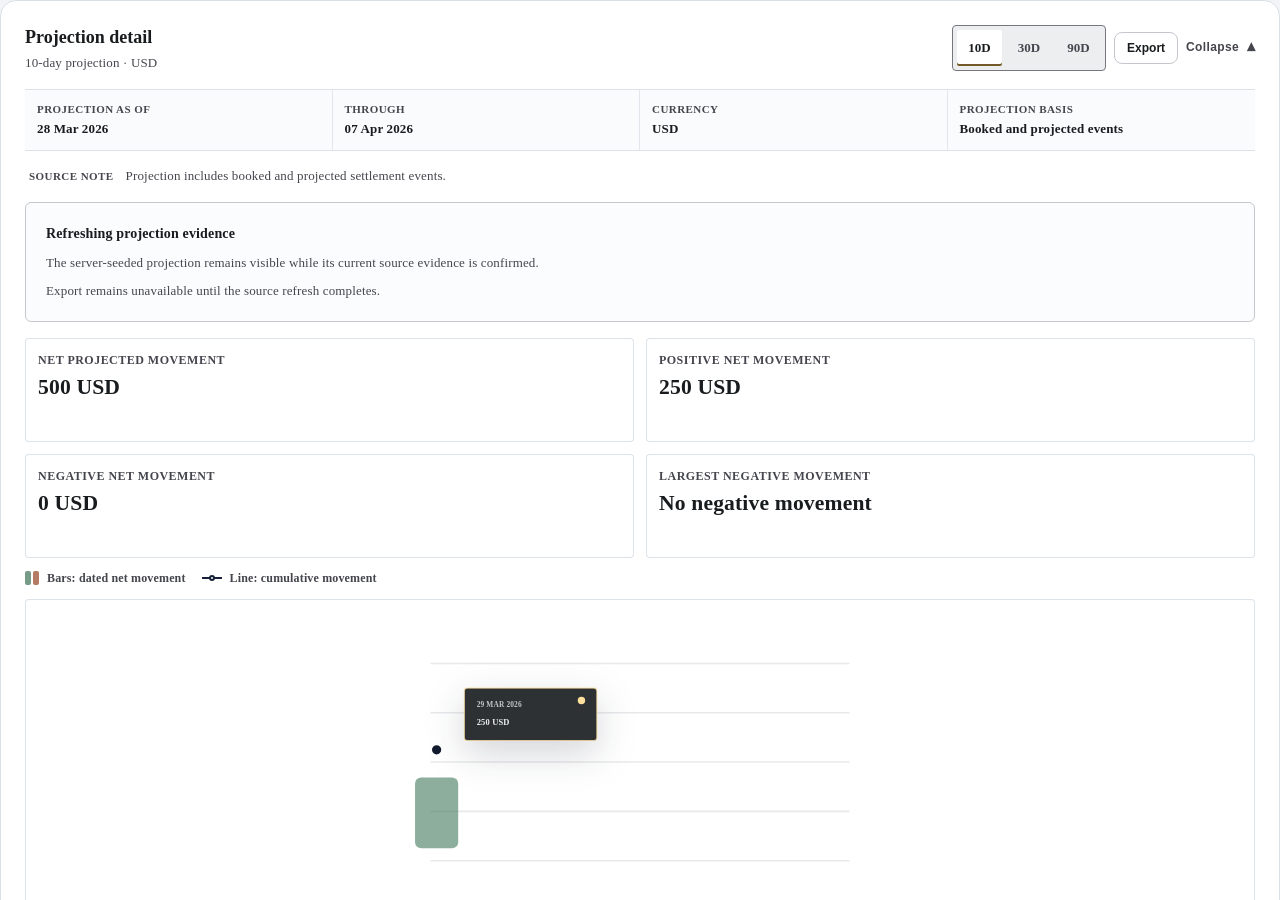
Test case: PortfolioProjectedCashflowModule › never relabels prior-horizon data after a failed refresh
Check: the element named "Projected cash movement summary" shows "500 USD", box [38,374,120,398]
What coordinates should you click on to do the following:
click the radio button labelled "30D"
I would click on:
 (1029, 48)
Its box is [1006,30,1052,66].
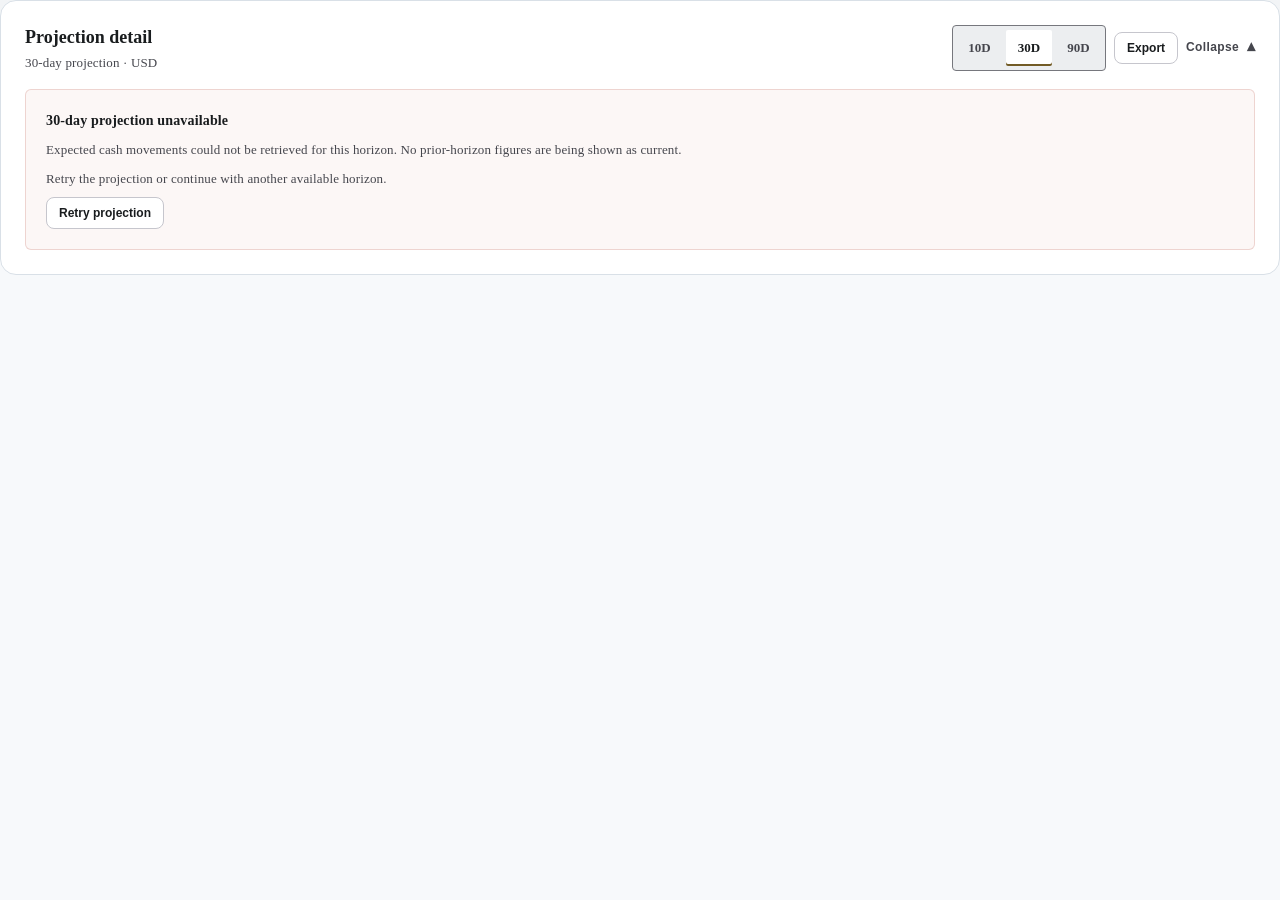
Check: the button "Export" is disabled, box [1114,32,1178,64]
Check: the heading "30-day projection unavailable" is shown, box [46,110,228,132]
Check: the text "Expected cash movements could not be retrieved for this horizon. No prior-horizon figures are being shown as current." is shown, box [46,142,682,157]
